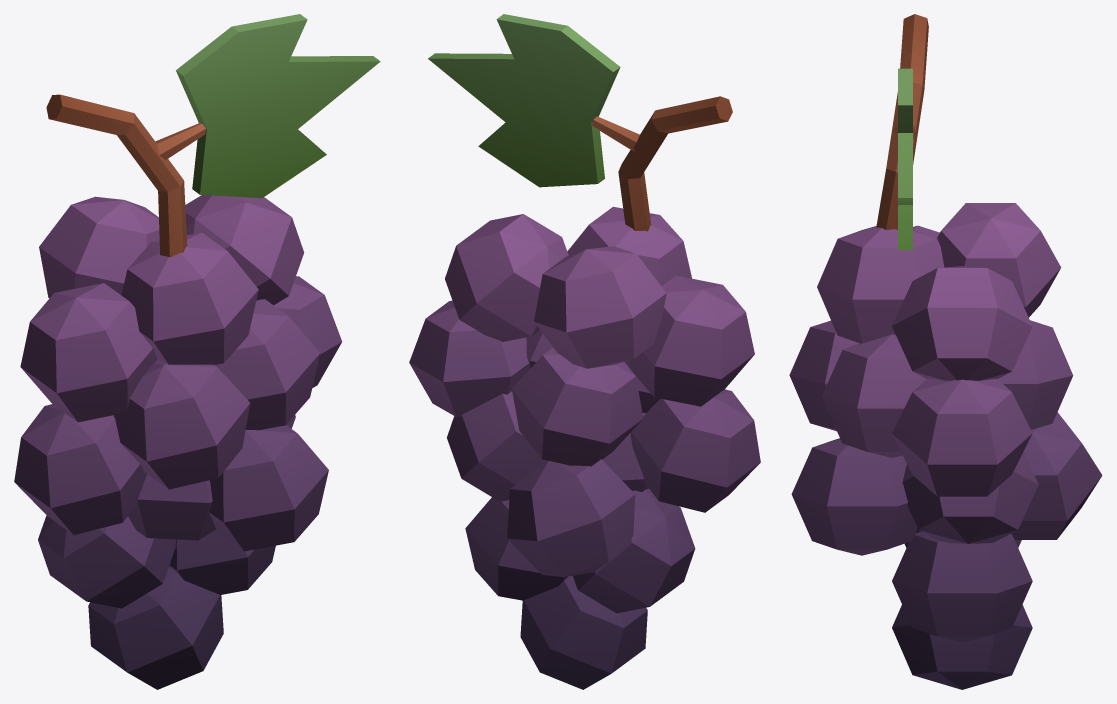
File: Grape.fbx
3 renders of one model, left to right at view 1: azimuth 30°, elevation 25°; view 2: azimuth 150°, elevation 25°; view 3: azimuth 270°, elevation 25°, orthographic. The views are drawn at different scales.
Visible parts, largest first — view 1: Grape; view 2: Grape; view 3: Grape.
Boxes of the visible parts, x1,y1,x2,y2 form: Grape: (14, 14, 380, 689); Grape: (409, 14, 760, 689); Grape: (789, 14, 1102, 689).
Size of the model in its own units: 13.78 by 25.57 by 11.34.
